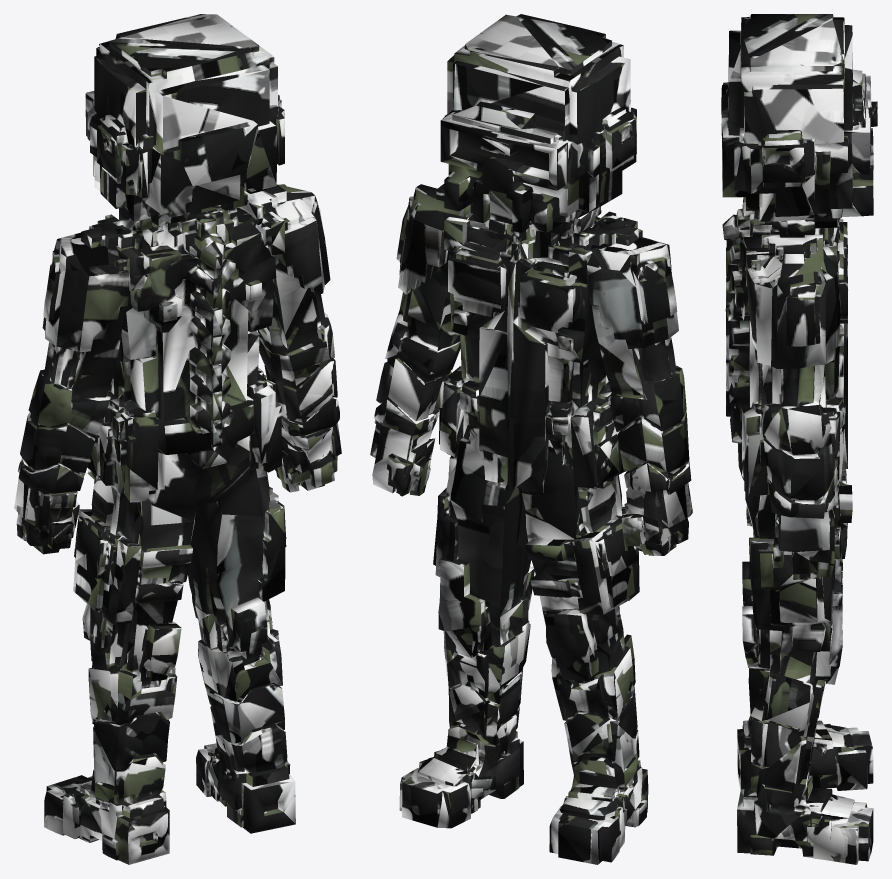
File: soldier_1.obj
The picture shows the model from 3 angles, left to right: view 1: azimuth 30°, elevation 25°; view 2: azimuth 150°, elevation 25°; view 3: azimuth 270°, elevation 25°; orthographic projection.
Visible parts, largest first — view 1: soldier_1; view 2: soldier_1; view 3: soldier_1.
Part boxes in pixels (box(x1,y1,x2,y2)): soldier_1: box(14, 14, 341, 864); soldier_1: box(370, 14, 692, 864); soldier_1: box(721, 14, 877, 864).
Size of the model in its own units: 0.7926 by 1.9 by 0.3482.
